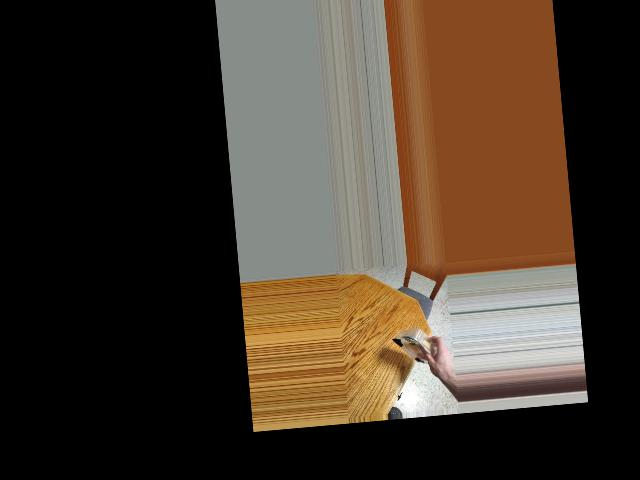cheese: (393, 317, 441, 380)
